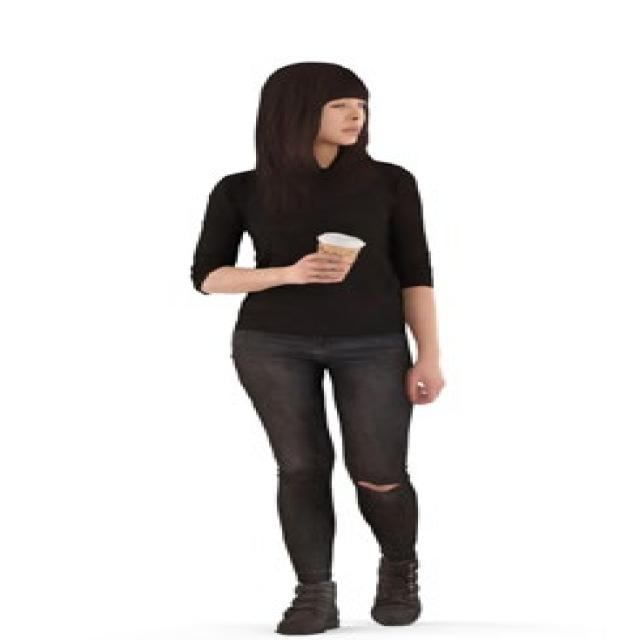standing: (190, 60, 455, 640)
